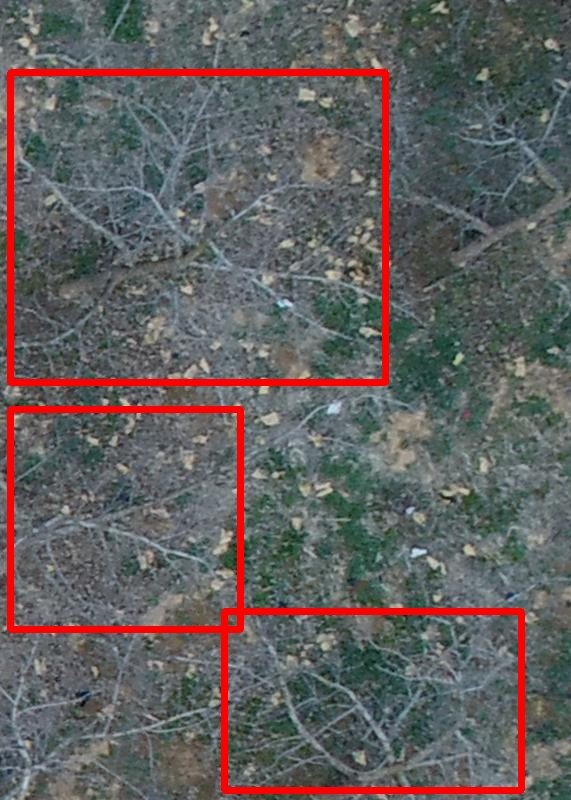apple: (10, 72, 385, 382), (224, 611, 521, 790), (10, 409, 240, 629)
